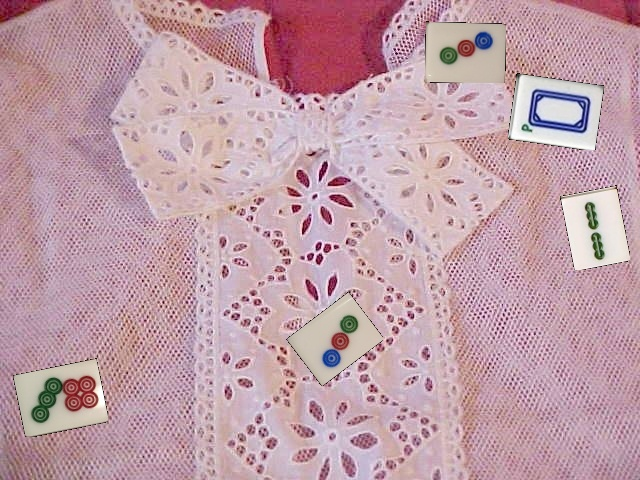bamboo-2: (560, 185, 630, 270)
dots-3: (286, 292, 383, 386), (425, 21, 506, 83)
dots-7: (13, 358, 108, 437)
honors-white: (508, 73, 604, 150)
